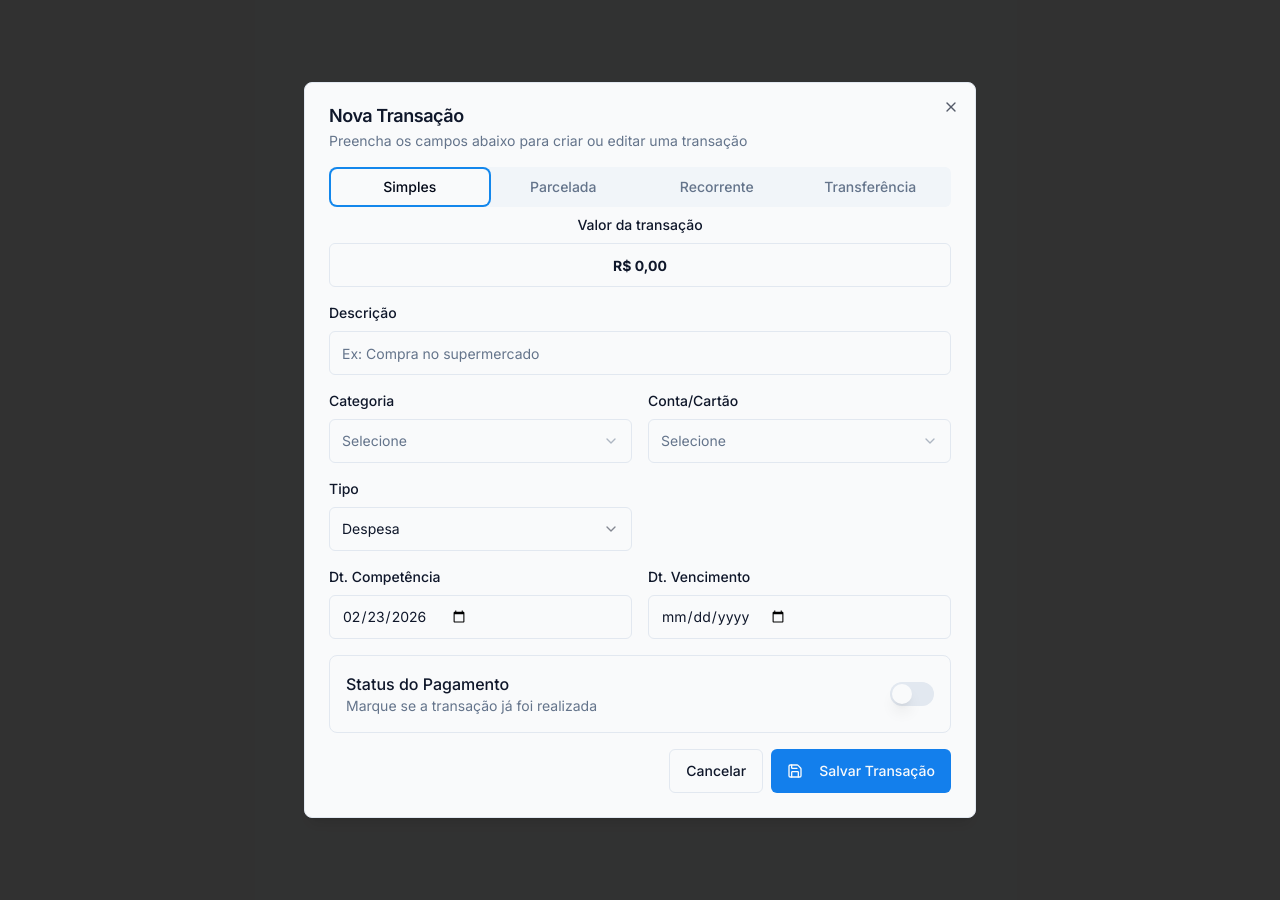
Test case: TransactionForm › Transfer Transaction Form › simple tab shows accounts and cards in account selector
Click the dropdown named "conta/cartão". click: coordinates (693, 440)
box: [648,419,951,463]
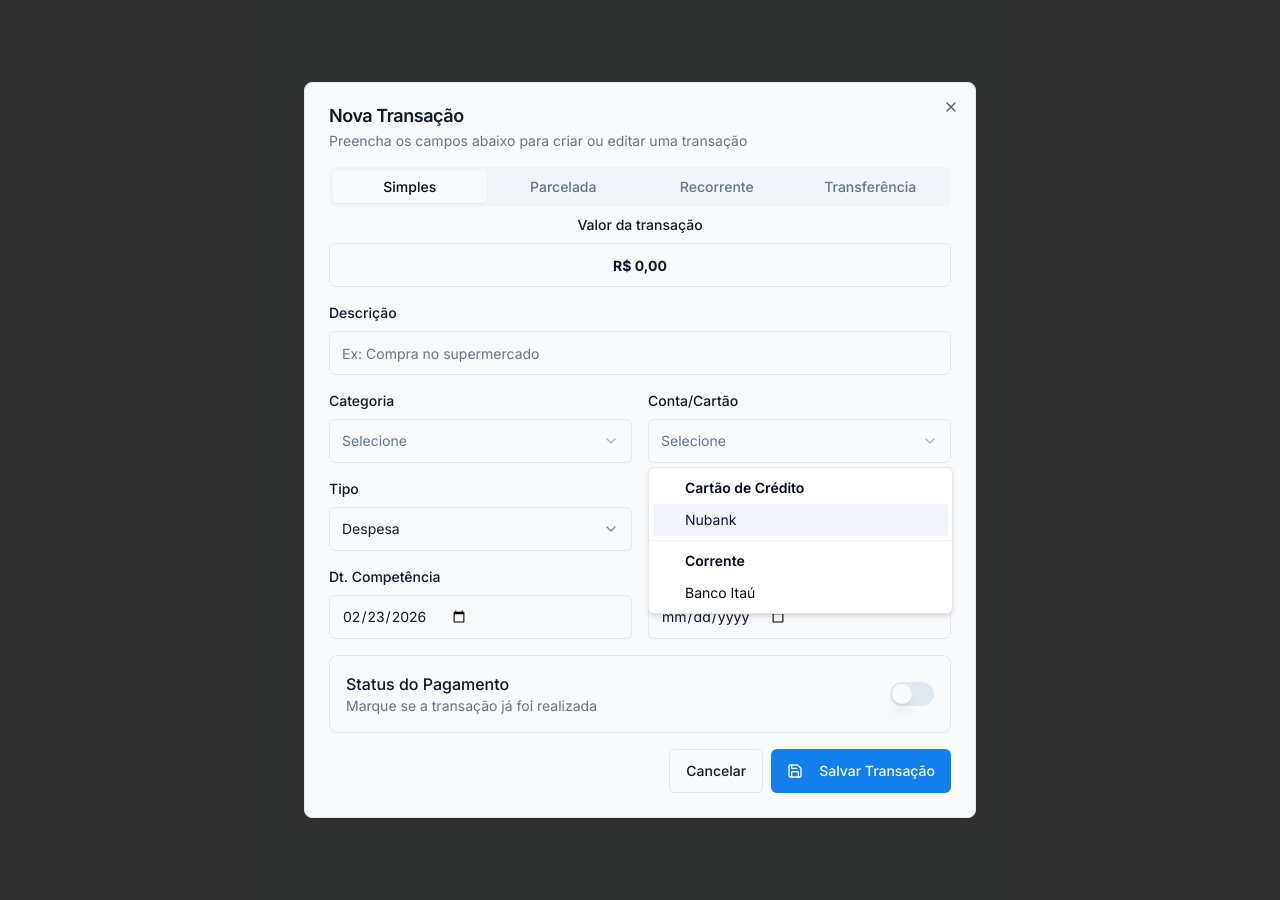
Now the option "Banco Itaú" is shown, box [685,584,755,601]
Now the option "Nubank" is shown, box [653,504,948,536]
